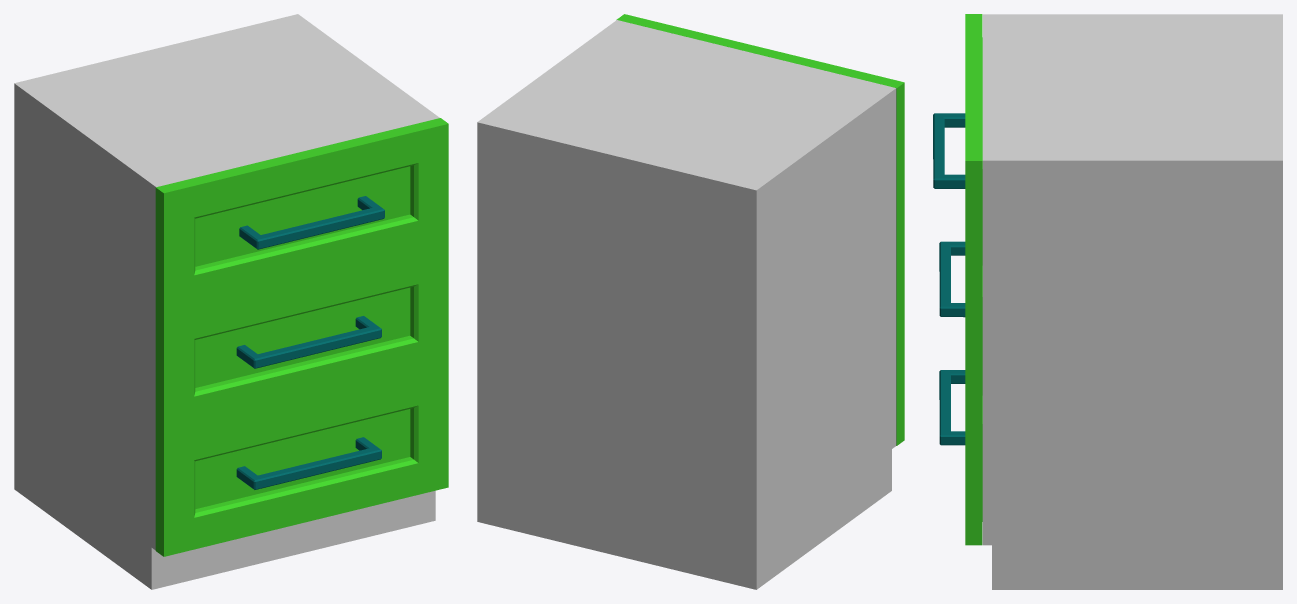
File: Kitchen_CounterWithDrawers.fbx
The picture shows the model from 3 angles, left to right: view 1: azimuth 30°, elevation 25°; view 2: azimuth 150°, elevation 25°; view 3: azimuth 270°, elevation 25°; orthographic projection. The views are drawn at different scales.
Visible parts, largest first — view 1: Main_body, Top_drawer, Middle_drawer, Lower_drawer; view 2: Main_body, Top_drawer, Middle_drawer, Lower_drawer; view 3: Main_body, Top_drawer, Middle_drawer, Lower_drawer.
Part boxes in pixels (x1,y1,x2,y2): Main_body: (14, 14, 439, 589); Top_drawer: (155, 118, 448, 314); Middle_drawer: (155, 245, 448, 435); Lower_drawer: (155, 366, 448, 556); Main_body: (477, 20, 896, 589); Top_drawer: (616, 14, 904, 207); Middle_drawer: (896, 202, 904, 326); Lower_drawer: (896, 321, 904, 445); Main_body: (982, 14, 1282, 589); Top_drawer: (933, 14, 982, 288); Middle_drawer: (939, 241, 982, 417); Lower_drawer: (939, 370, 982, 545).
Size of the model in its own units: 60.22 by 82 by 60.55.
